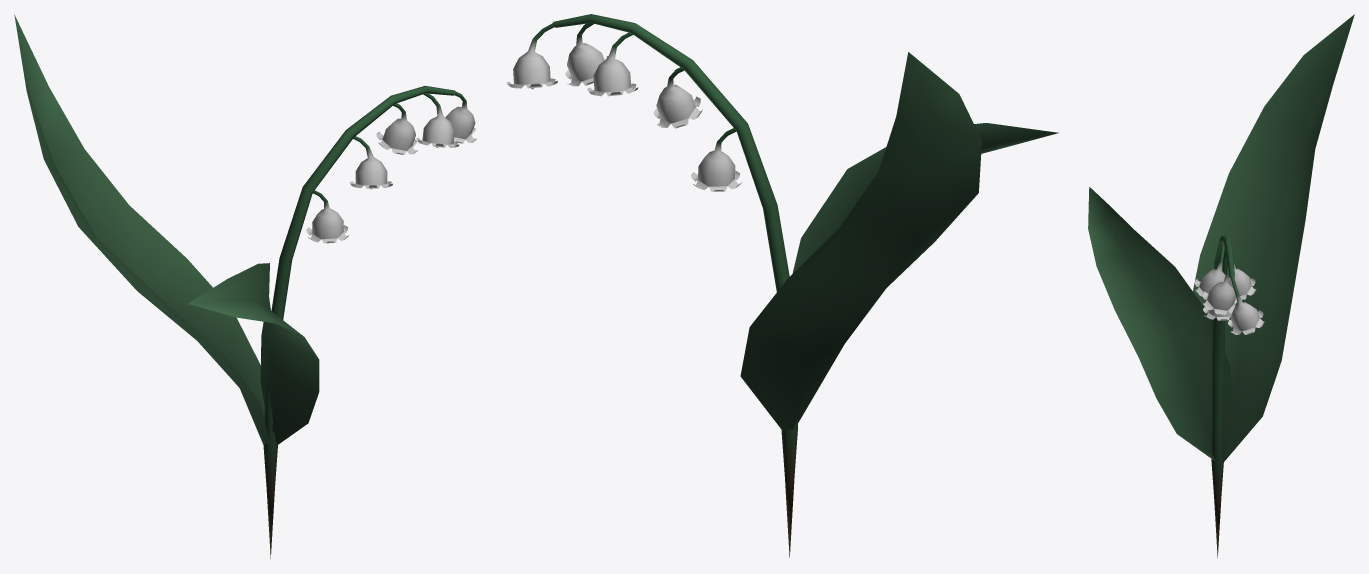
The model's file is plants-flowers-lily-of-the-valley_v1.fbx.
3 renders of one model, left to right at view 1: azimuth 30°, elevation 25°; view 2: azimuth 150°, elevation 25°; view 3: azimuth 270°, elevation 25°, orthographic. The views are drawn at different scales.
Parts seen in each view (by area): view 1: Lily of the Valley_v1; view 2: Lily of the Valley_v1; view 3: Lily of the Valley_v1.
Boxes of the visible parts, x1,y1,x2,y2 form: Lily of the Valley_v1: [14, 14, 476, 558]; Lily of the Valley_v1: [506, 14, 1058, 557]; Lily of the Valley_v1: [1088, 14, 1354, 558].
Size of the model in its own units: 0.2037 by 0.25 by 0.1288.
